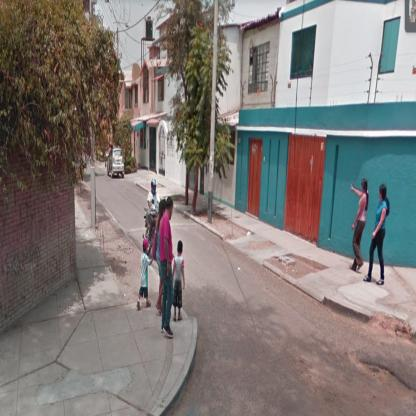Obstaculo: (348, 351, 416, 405), (171, 223, 200, 228)
Peaton: (364, 185, 391, 286), (161, 196, 175, 339), (153, 200, 167, 315), (138, 240, 154, 311), (173, 242, 186, 323)
Vehiculo: (108, 149, 125, 179)
